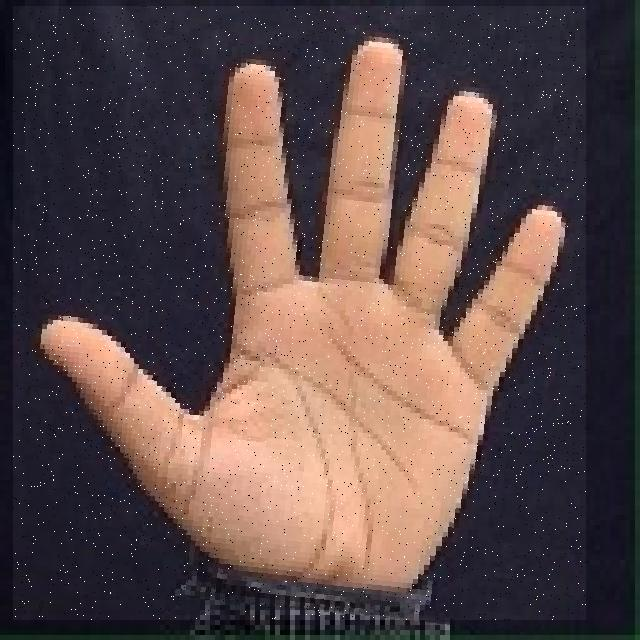Yes: (13, 6, 586, 620)
